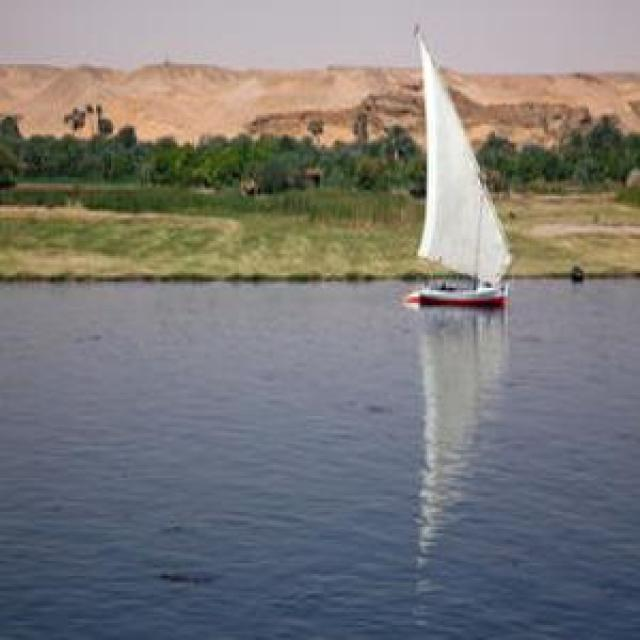sailboat: (391, 26, 519, 314)
